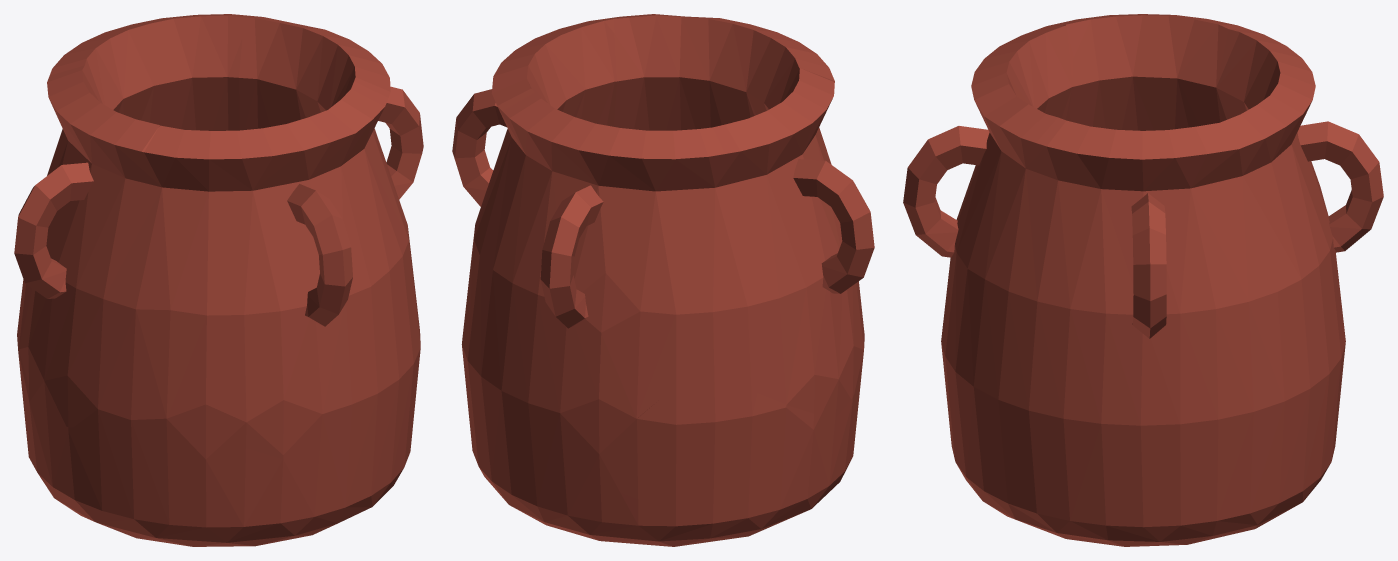
Rendered from Pottery 4_2b.fbx.
3 views of the same model, side by side, from view 1: azimuth 30°, elevation 25°; view 2: azimuth 150°, elevation 25°; view 3: azimuth 270°, elevation 25° (orthographic).
Visible parts, largest first — view 1: Pottery 4_2b.001, Pottery 4_2b.004, Pottery 4_2b, Pottery 4_2b.002, Pottery 4_2b.003; view 2: Pottery 4_2b.003, Pottery 4_2b, Pottery 4_2b.004, Pottery 4_2b.001, Pottery 4_2b.002; view 3: Pottery 4_2b.002, Pottery 4_2b, Pottery 4_2b.001, Pottery 4_2b.003, Pottery 4_2b.004.
Part boxes in pixels (x1=…): Pottery 4_2b.001: x1=142, y1=81, x2=415, y2=463; Pottery 4_2b.004: x1=14, y1=65, x2=191, y2=430; Pottery 4_2b: x1=17, y1=296, x2=420, y2=546; Pottery 4_2b.002: x1=239, y1=15, x2=423, y2=330; Pottery 4_2b.003: x1=49, y1=14, x2=248, y2=130; Pottery 4_2b.003: x1=473, y1=92, x2=738, y2=464; Pottery 4_2b: x1=464, y1=325, x2=861, y2=546; Pottery 4_2b.004: x1=712, y1=68, x2=874, y2=418; Pottery 4_2b.001: x1=603, y1=14, x2=834, y2=144; Pottery 4_2b.002: x1=452, y1=19, x2=616, y2=369; Pottery 4_2b.002: x1=1019, y1=111, x2=1295, y2=475; Pottery 4_2b: x1=946, y1=345, x2=1340, y2=546; Pottery 4_2b.001: x1=903, y1=24, x2=1079, y2=391; Pottery 4_2b.003: x1=1216, y1=29, x2=1383, y2=399; Pottery 4_2b.004: x1=1049, y1=14, x2=1250, y2=130.
Bounding box in the file's own units: 62.86 × 59.48 × 62.86.
